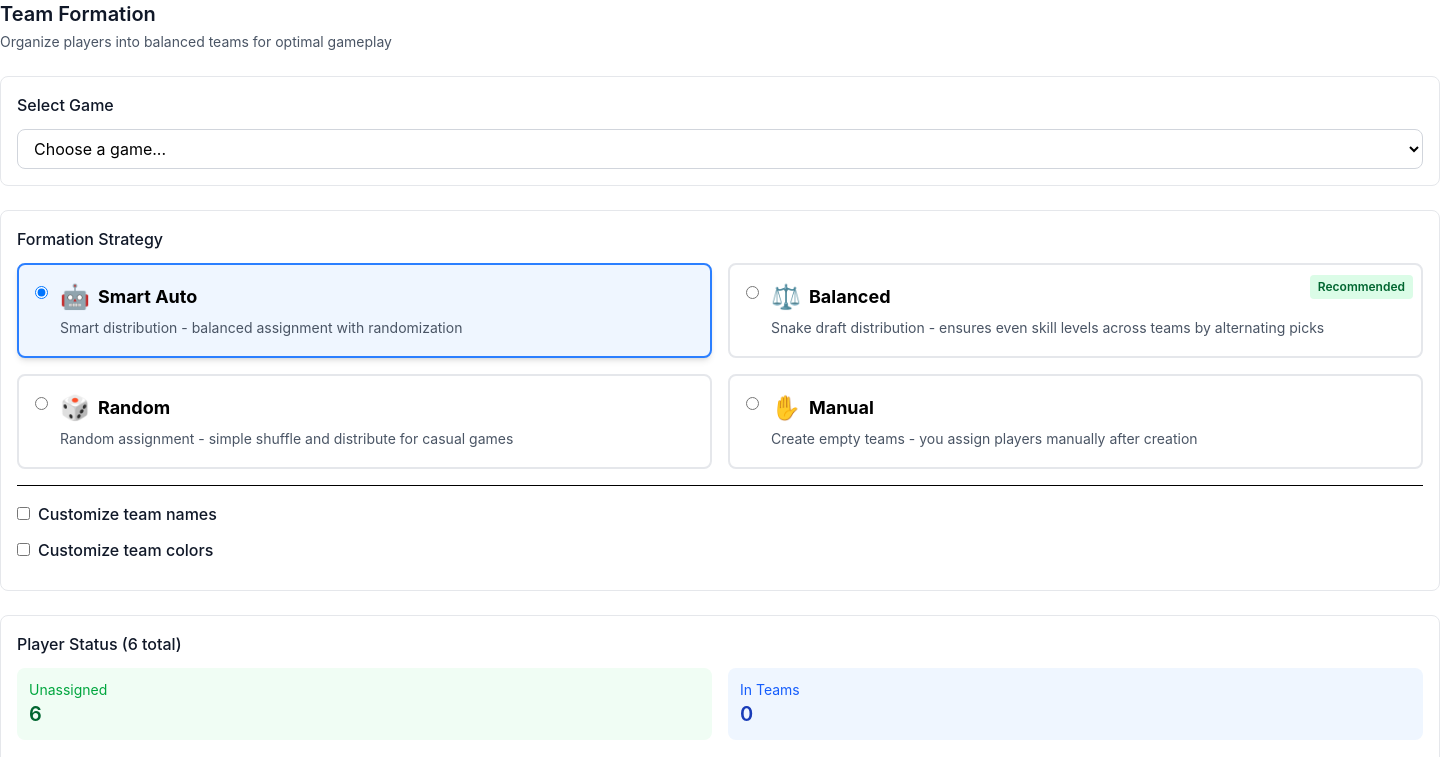
Test: TeamFormationInterface › Team Name Customization › should initialize team name inputs when checkbox is checked
The image size is (1440, 757).
Select "Capture the Flag (4-12 players)" in the dropdown at {"x": 720, "y": 149}, box [17,129,1423,169]
(page scrolled)
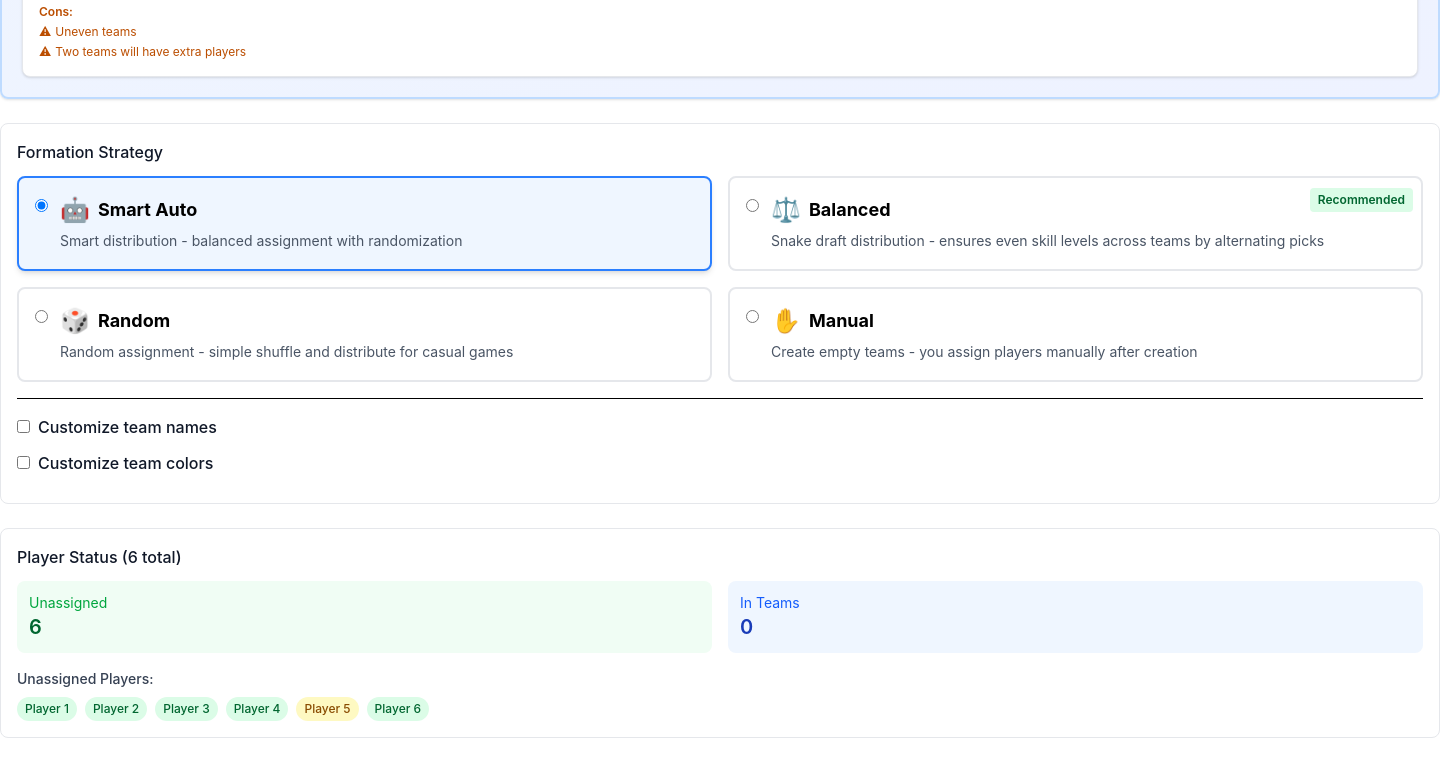
Click the checkbox labelled "Customize team names" at {"x": 24, "y": 426}, box [17,420,30,433]
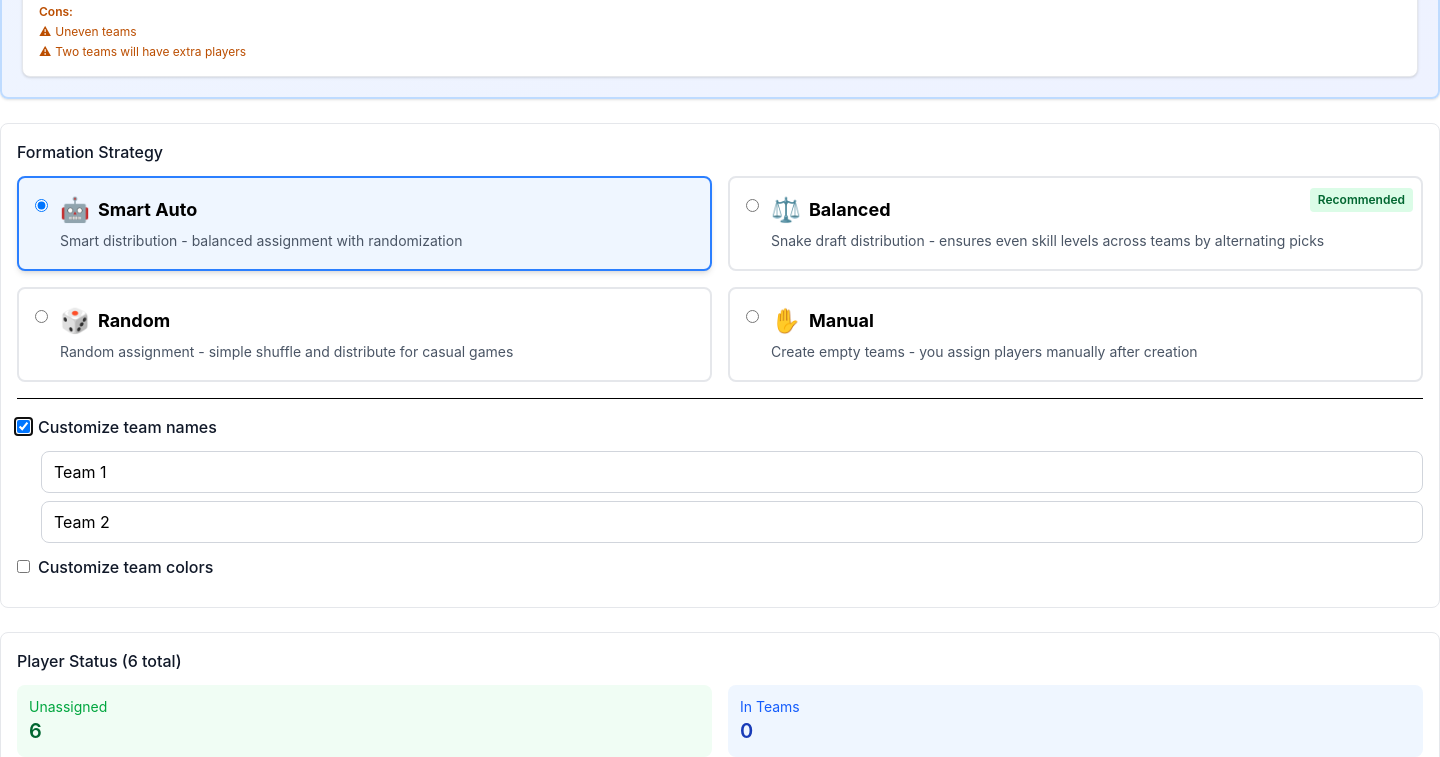
Check: the 1st field with placeholder "Team 1 name" is shown, box [41,450,1423,492]
